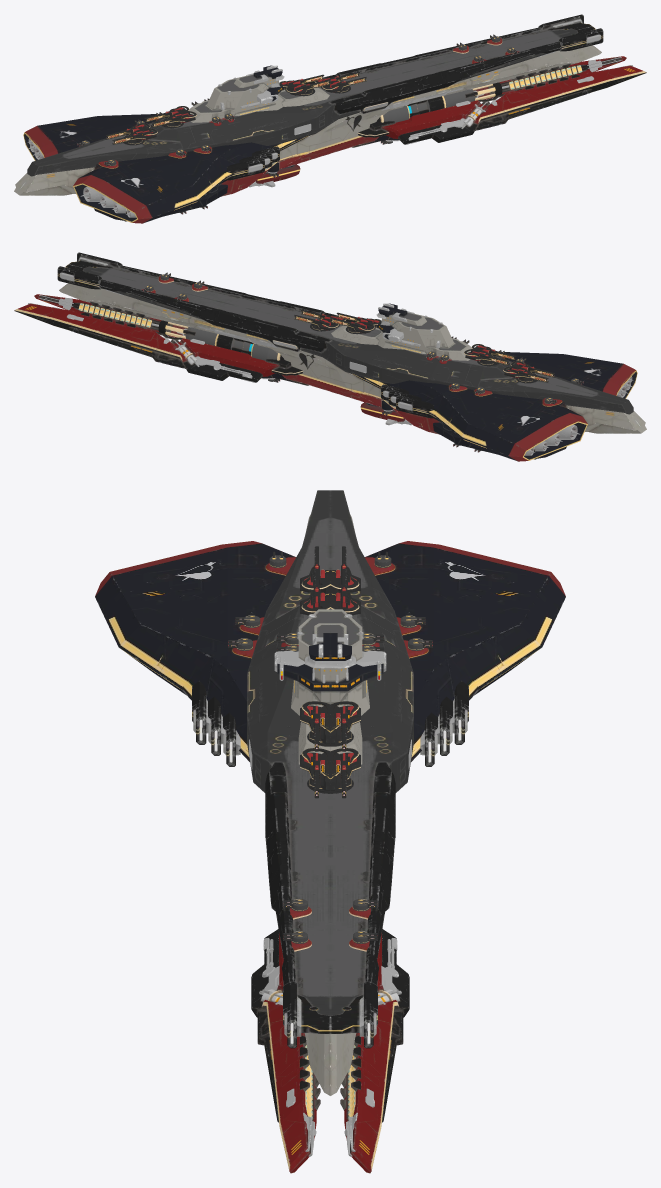
Rendered from aquamarine.glb.
3 renders of one model, top to bottom at view 1: azimuth 30°, elevation 25°; view 2: azimuth 150°, elevation 25°; view 3: azimuth 270°, elevation 25°, orthographic. The views are drawn at different scales.
Parts seen in each view (by area): view 1: root; view 2: root; view 3: root.
Part boxes in pixels (box(x1,y1,x2,y2)): root: box(14, 14, 646, 223); root: box(14, 252, 646, 461); root: box(95, 490, 565, 1173).
Size of what is drawn, in the model's own units: 67.83 by 11.6 by 22.32.
7 materials, 7 textured.
